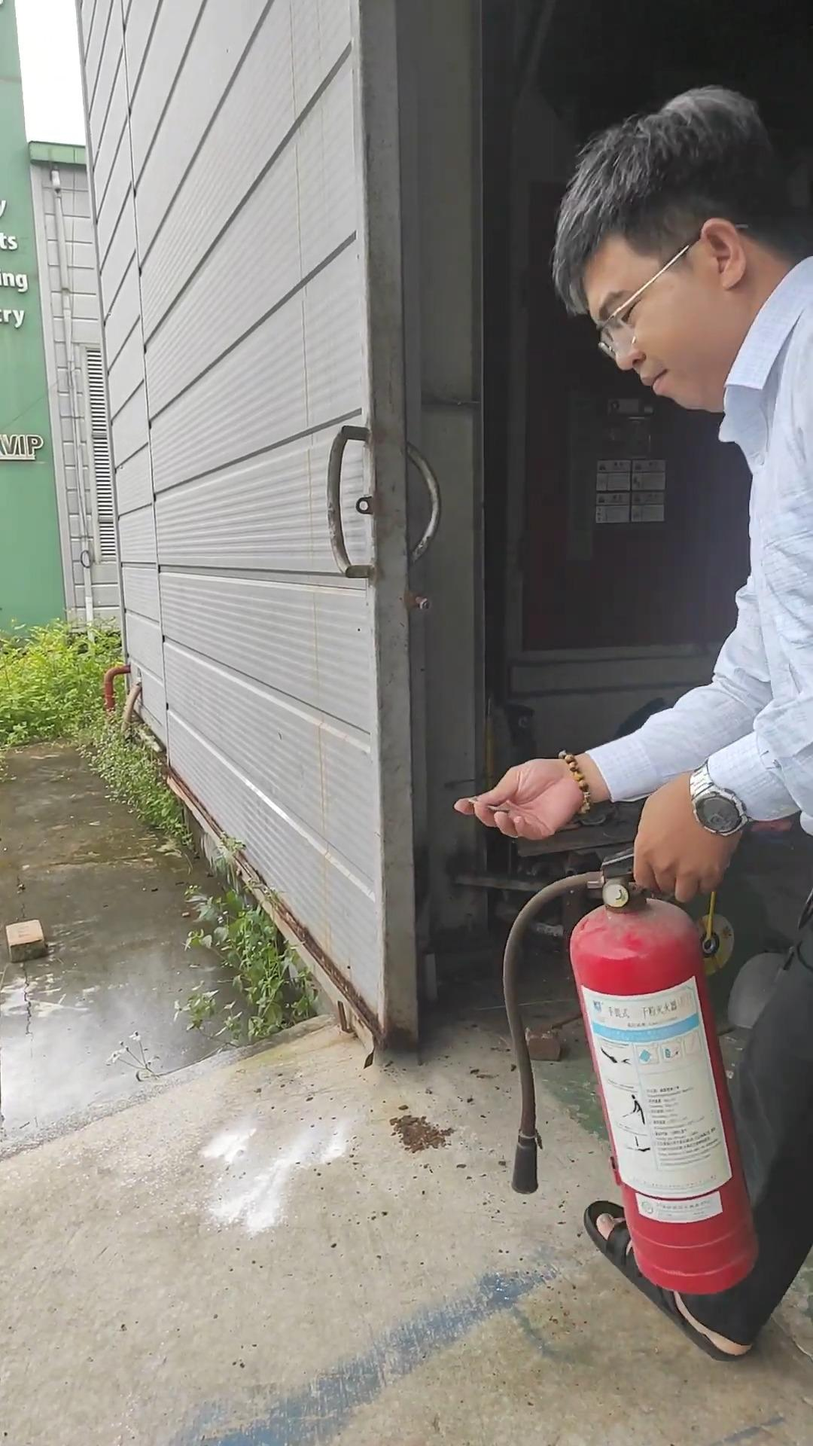FireExtinguisher: (490, 871, 776, 1329)
